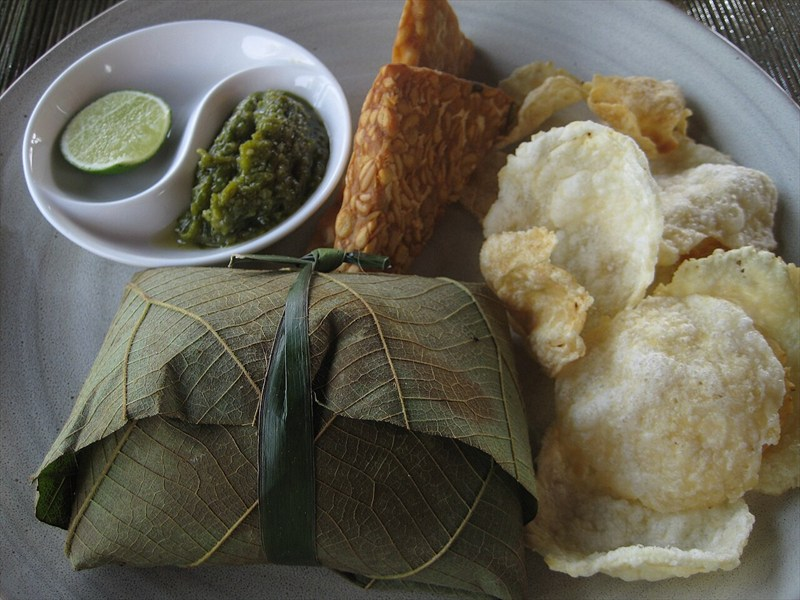Tempe Goreng: (37, 34, 728, 456)
